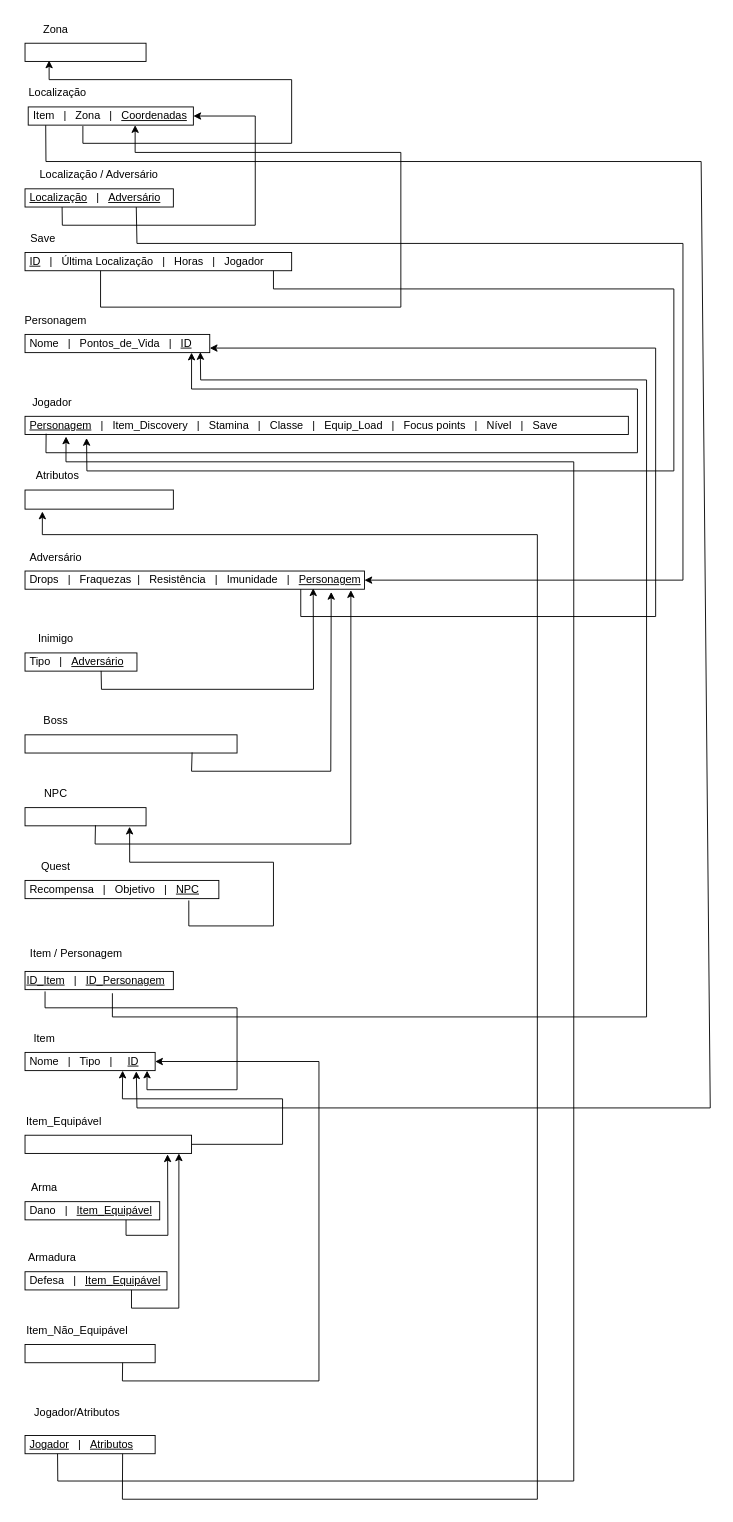
The diagram is 733 pixels wide and 1522 high, and some of its shapes have lost their labels. Each missing label, with the centre of its shape:
"Diálogo | Adversário" goes at point (85, 816).
"ID | Designação | Valor" goes at point (98, 499).
"Nome | Trilha Sonora" goes at point (85, 51).
"Peso | Durabilidade | Item" goes at point (108, 1143).
"Quantidade | Item" goes at point (89, 1353).
"Trilha sonora | Diálogo | Adversário" goes at point (130, 743).
